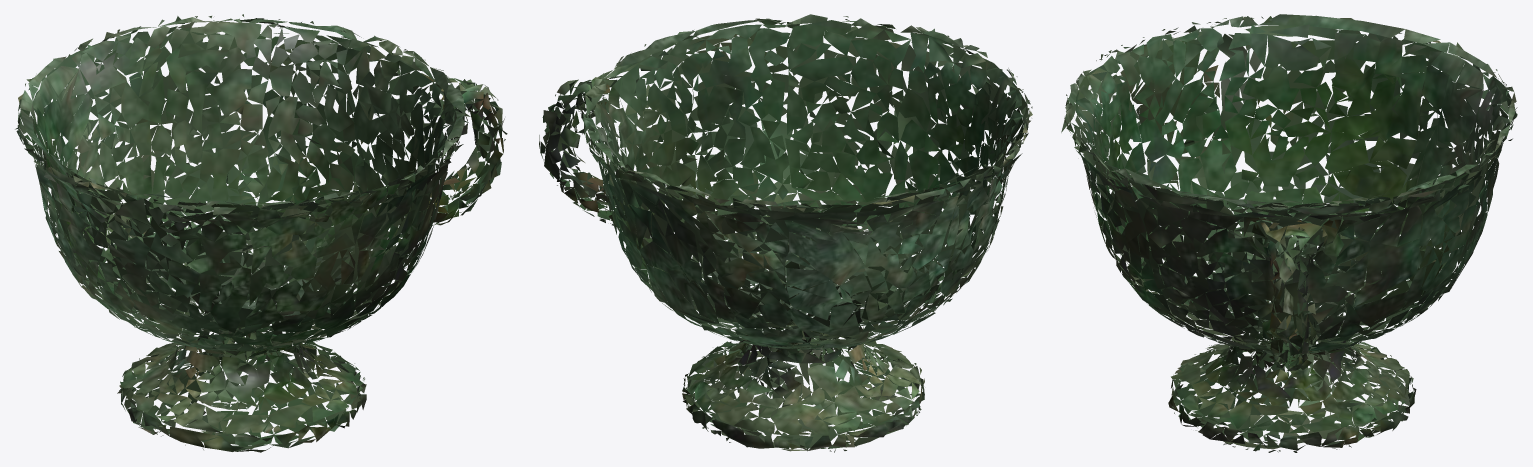
The model's file is wine_cup.glb.
The picture shows the model from 3 angles, left to right: view 1: azimuth 30°, elevation 25°; view 2: azimuth 150°, elevation 25°; view 3: azimuth 270°, elevation 25°; orthographic projection.
Visible parts, largest first — view 1: geometry_0; view 2: geometry_0; view 3: geometry_0.
Boxes of the visible parts, x1,y1,x2,y2 form: geometry_0: [15, 14, 507, 452]; geometry_0: [539, 14, 1032, 452]; geometry_0: [1061, 14, 1517, 452].
Size of the model in its own units: 0.1296 by 0.0806 by 0.1113.
Materials: 1 (1 with a texture image).
